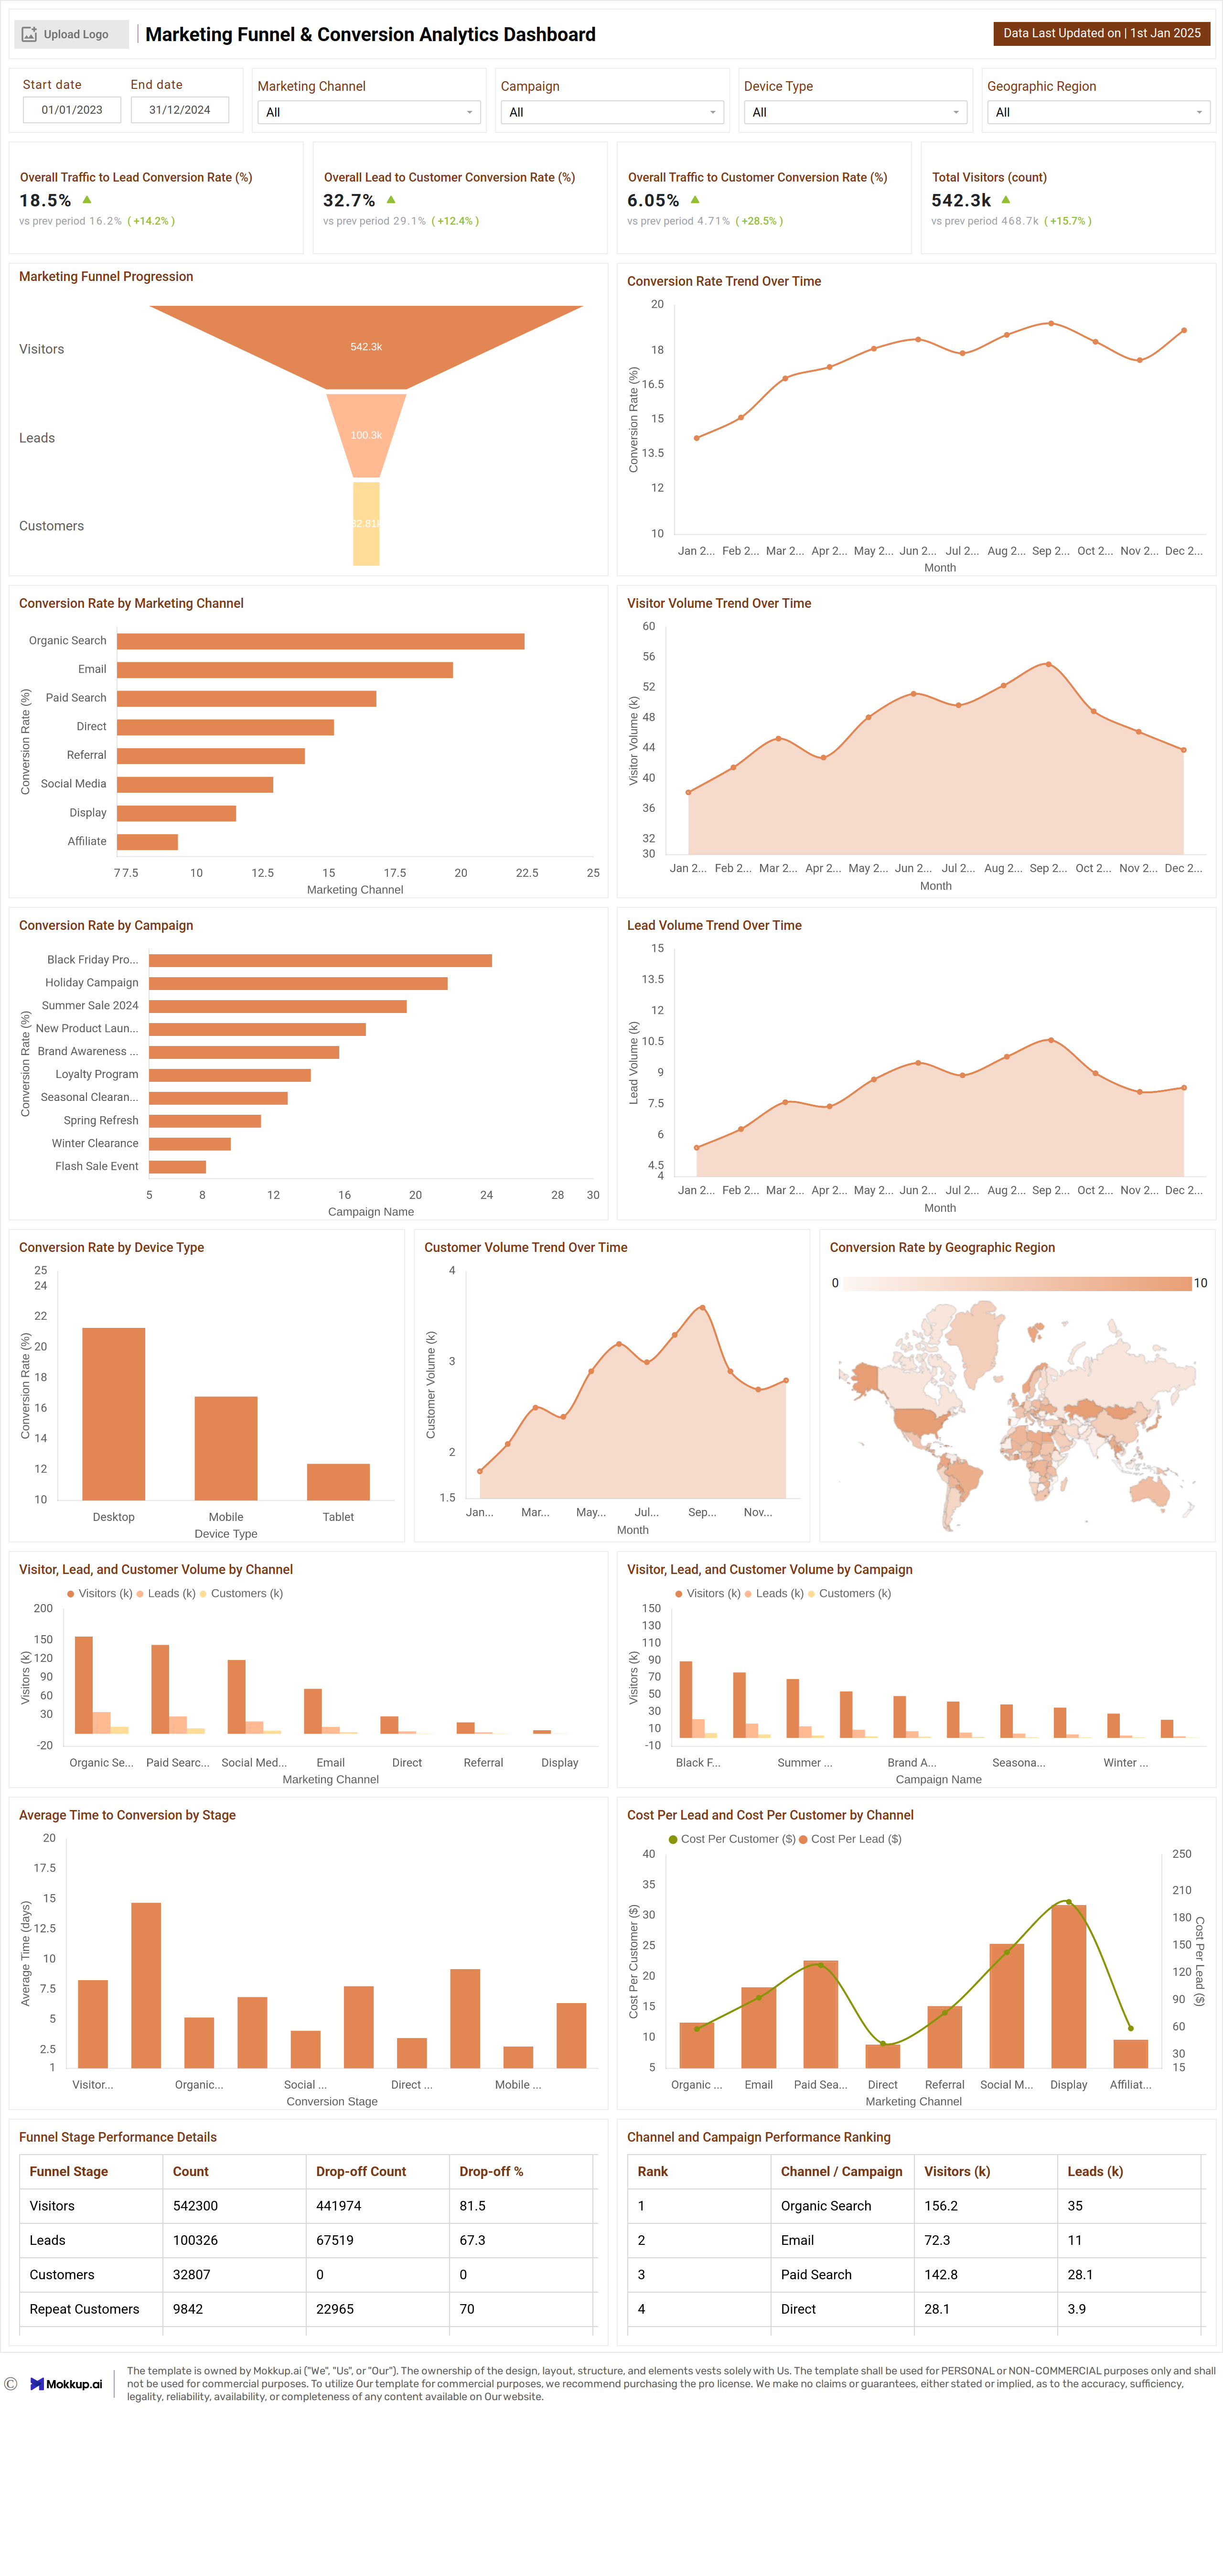

Layout of this report page (visuals, bound fields, positions):
{"tool":"powerbi","page":{"name":"Marketing Funnel & Conversion Analytics Dashboard","canvas":[1280,2462],"ordinal":0},"visuals":[{"type":"group","id":"g1","title":"Group 1","box":[7,7,1266,55],"z":0},{"type":"shape","box":[7,7,1266,55],"z":0,"group":"g1"},{"type":"shape","box":[953.5,19,316.5,30],"z":0,"group":"g21"},{"type":"shape","box":[7,69,247.6,70],"z":0,"group":"g33"},{"type":"shape","box":[261.6,69,247.6,70],"z":0,"group":"g32"},{"type":"shape","box":[516.2,69,247.6,70],"z":0,"group":"g31"},{"type":"shape","box":[770.8,69,247.6,70],"z":0,"group":"g30"},{"type":"shape","box":[1025.4,69,247.6,70],"z":0,"group":"g22"},{"type":"shape","title":"null","box":[9,71,57.5,22],"z":0,"group":"g23"},{"type":"shape","box":[7,146,311.2,120],"z":0,"group":"g20"},{"type":"shape","box":[325.2,146,311.2,120],"z":0,"group":"g19"},{"type":"shape","box":[643.5,146,311.2,120],"z":0,"group":"g18"},{"type":"shape","box":[961.8,146,311.2,120],"z":0,"group":"g17"},{"type":"shape","box":[7,273,629.5,330],"z":0,"group":"g11"},{"type":"shape","box":[643.5,273,629.5,330],"z":0,"group":"g12"},{"type":"shape","box":[7,610,629.5,330],"z":0,"group":"g13"},{"type":"shape","box":[643.5,610,629.5,330],"z":0,"group":"g14"},{"type":"shape","box":[7,947,629.5,330],"z":0,"group":"g15"},{"type":"shape","box":[643.5,947,629.5,330],"z":0,"group":"g16"},{"type":"shape","box":[7,1284,417.3,330],"z":0,"group":"g10"},{"type":"shape","box":[855.6,1284,417.4,330],"z":0,"group":"g8"},{"type":"shape","box":[431.4,1284.3,845.7,330],"z":0,"group":"g9"},{"type":"shape","box":[7,1621,629.5,250],"z":0,"group":"g7"},{"type":"shape","box":[643.5,1621,629.5,250],"z":0,"group":"g6"},{"type":"shape","box":[7,1878,629.5,330],"z":0,"group":"g5"},{"type":"shape","box":[643.5,1878,629.5,330],"z":0,"group":"g4"},{"type":"shape","box":[7,2215,629.5,240],"z":0,"group":"g3"},{"type":"shape","box":[643.5,2215,629.5,240],"z":0,"group":"g2"},{"type":"shape","box":[8,2216,627.5,30],"z":0,"group":"g28"},{"type":"shape","box":[644.5,2216,627.5,30],"z":0,"group":"g29"},{"type":"shape","title":"null","box":[263.6,72,245.6,20],"z":10,"group":"g24"},{"type":"shape","title":"null","box":[518.2,72,245.6,20],"z":10,"group":"g25"},{"type":"shape","title":"null","box":[772.8,72,245.6,20],"z":10,"group":"g26"},{"type":"shape","title":"null","box":[1027.4,72,245.6,20],"z":10,"group":"g27"},{"type":"group","id":"g2","title":"Group 1","box":[643.5,2215,629.5,240],"z":50},{"type":"group","id":"g3","title":"Group 1","box":[7,2215,629.5,240],"z":100},{"type":"group","id":"g4","title":"Group 1","box":[643.5,1878,629.5,330],"z":150},{"type":"group","id":"g5","title":"Group 1","box":[7,1878,629.5,330],"z":200},{"type":"group","id":"g6","title":"Group 1","box":[643.5,1621,629.5,250],"z":250},{"type":"group","id":"g7","title":"Group 1","box":[7,1621,629.5,250],"z":300},{"type":"group","id":"g8","title":"Group 1","box":[855.6,1284,417.4,330],"z":350},{"type":"group","id":"g9","title":"Group 1","box":[431.4,1284.3,845.7,330],"z":400},{"type":"group","id":"g10","title":"Group 1","box":[7,1284,417.3,330],"z":450},{"type":"group","id":"g11","title":"Group 1","box":[7,273,629.5,330],"z":500},{"type":"group","id":"g12","title":"Group 1","box":[643.5,273,629.5,330],"z":550},{"type":"group","id":"g13","title":"Group 1","box":[7,610,629.5,330],"z":600},{"type":"group","id":"g14","title":"Group 1","box":[643.5,610,629.5,330],"z":650},{"type":"group","id":"g15","title":"Group 1","box":[7,947,629.5,330],"z":700},{"type":"group","id":"g16","title":"Group 1","box":[643.5,947,629.5,330],"z":750},{"type":"group","id":"g17","title":"Group 1","box":[961.8,146,311.2,120],"z":800},{"type":"group","id":"g18","title":"Group 1","box":[643.5,146,311.2,120],"z":850},{"type":"group","id":"g19","title":"Group 1","box":[325.2,146,311.2,120],"z":900},{"type":"group","id":"g20","title":"Group 1","box":[7,146,311.2,120],"z":950},{"type":"group","id":"g21","title":"Group 1","box":[7,19,1266,30],"z":1000,"group":"g1"},{"type":"shape","box":[7,19,949.5,30],"z":1000,"group":"g21"},{"type":"group","id":"g22","title":"Group 1","box":[1025.4,69,247.6,70],"z":1000},{"type":"group","id":"g23","title":"Group 1","box":[8,70,245.6,70],"z":1000,"group":"g33"},{"type":"shape","title":"null","box":[66.5,71,188.1,22],"z":1000,"group":"g23"},{"type":"group","id":"g24","title":"Group 1","box":[262.6,71,245.6,65],"z":1000,"group":"g32"},{"type":"group","id":"g25","title":"Group 1","box":[517.2,71,245.6,65],"z":1000,"group":"g31"},{"type":"group","id":"g26","title":"Group 1","box":[771.8,71,245.6,65],"z":1000,"group":"g30"},{"type":"group","id":"g27","title":"Group 1","box":[1026.4,71,245.6,65],"z":1000,"group":"g22"},{"type":"kpi","title":"Overall Traffic to Lead Conversion Rate (%)","fields":{"TrendLine":["dim date.Month"],"Indicator":["dim measure.overall traffic to lead conversion rate (%) current"],"Goal":["dim measure.overall traffic to lead conversion rate (%) vs prev period"]},"box":[7,146,309.2,117],"z":1000,"group":"g20"},{"type":"kpi","title":"Overall Lead to Customer Conversion Rate (%)","fields":{"TrendLine":["dim date.Month"],"Indicator":["dim measure.overall lead to customer conversion rate (%) current"],"Goal":["dim measure.overall lead to customer conversion rate (%) vs prev period"]},"box":[325.2,146,309.2,117],"z":1000,"group":"g19"},{"type":"kpi","title":"Overall Traffic to Customer Conversion Rate (%)","fields":{"TrendLine":["dim date.Month"],"Indicator":["dim measure.overall traffic to customer conversion rate (%) current"],"Goal":["dim measure.overall traffic to customer conversion rate (%) vs prev period"]},"box":[643.5,146,309.2,117],"z":1000,"group":"g18"},{"type":"kpi","title":"Total Visitors (count)","fields":{"TrendLine":["dim date.Month"],"Indicator":["dim measure.total visitors (count) current"],"Goal":["dim measure.total visitors (count) vs prev period"]},"box":[961.8,146,309.2,117],"z":1000,"group":"g17"},{"type":"shape","box":[8,274,627.5,30],"z":1000,"group":"g11"},{"type":"shape","box":[644.5,274,627.5,30],"z":1000,"group":"g12"},{"type":"shape","box":[8,611,627.5,30],"z":1000,"group":"g13"},{"type":"shape","box":[644.5,611,627.5,30],"z":1000,"group":"g14"},{"type":"shape","box":[8,948,627.5,30],"z":1000,"group":"g15"},{"type":"shape","box":[644.5,948,627.5,30],"z":1000,"group":"g16"},{"type":"shape","box":[8,1285,415.3,30],"z":1000,"group":"g10"},{"type":"shape","box":[856.6,1285,415.4,30],"z":1000,"group":"g8"},{"type":"shape","box":[433.4,1285.3,841.7,30],"z":1000,"group":"g9"},{"type":"shape","box":[8,1622,627.5,30],"z":1000,"group":"g7"},{"type":"shape","box":[644.5,1622,627.5,30],"z":1000,"group":"g6"},{"type":"shape","box":[8,1879,627.5,30],"z":1000,"group":"g5"},{"type":"shape","box":[644.5,1879,627.5,30],"z":1000,"group":"g4"},{"type":"group","id":"g28","title":"Group 1","box":[7,2215,627.5,300],"z":1000,"group":"g3"},{"type":"group","id":"g29","title":"Group 1","box":[643.5,2215,627.5,300],"z":1000,"group":"g2"},{"type":"tableEx","fields":{"Values":["Fact.simpletable_fact_718","Fact.simpletable_fact_719","Fact.simpletable_fact_720","Fact.simpletable_fact_721","Fact.simpletable_fact_722"]},"box":[8,2246,627.5,270],"z":1000,"group":"g28"},{"type":"tableEx","fields":{"Values":["Fact.simpletable_fact_712","Fact.simpletable_fact_713","Fact.simpletable_fact_714","Fact.simpletable_fact_715","Fact.simpletable_fact_716","Fact.simpletable_fact_717"]},"box":[644.5,2246,627.5,270],"z":1000,"group":"g29"},{"type":"slicer","fields":{"Values":["Geographic region3.filter"]},"box":[1027.4,92,245.6,29],"z":1002,"group":"g27"},{"type":"group","id":"g30","title":"Group 1","box":[770.8,69,247.6,70],"z":1050},{"type":"slicer","fields":{"Values":["Device type.column"]},"box":[772.8,92,245.6,29],"z":1052,"group":"g26"},{"type":"group","id":"g31","title":"Group 1","box":[516.2,69,247.6,70],"z":1100},{"type":"slicer","fields":{"Values":["Campaign name.column"]},"box":[518.2,92,245.6,29],"z":1102,"group":"g25"},{"type":"group","id":"g32","title":"Group 1","box":[261.6,69,247.6,70],"z":1150},{"type":"slicer","fields":{"Values":["Marketing channel2.combochart"]},"box":[263.6,92,245.6,29],"z":1152,"group":"g24"},{"type":"group","id":"g33","title":"Group 1","box":[7,69,247.6,70],"z":1200},{"type":"slicer","fields":{"Values":["dim date.Date"]},"box":[9,93,245.6,45],"z":2000,"group":"g23"},{"type":"funnel","fields":{"Category":["Marketing funnel progression.funnel"],"Y":["Sum(Fact.funnel_fact_18)"]},"box":[8,304,627.5,297],"z":2000,"group":"g11"},{"type":"lineChart","title":"Title goes here","fields":{"Category":["Month105.areachart"],"Y":["Sum(Fact.traffic_to_lead_conversion_rate____)"]},"box":[644.5,304,627.5,297],"z":2000,"group":"g12"},{"type":"clusteredBarChart","title":"Title goes here","fields":{"Category":["Marketing channel2.combochart"],"Y":["Sum(Fact.conversion_rate_____261)"]},"box":[8,641,627.5,297],"z":2000,"group":"g13"},{"type":"areaChart","title":"Title goes here","fields":{"Category":["Month105.areachart"],"Y":["Sum(Fact.visitor_volume__k_)"]},"box":[644.5,641,627.5,297],"z":2000,"group":"g14"},{"type":"clusteredBarChart","title":"Title goes here","fields":{"Category":["Campaign name.column"],"Y":["Sum(Fact.conversion_rate_____262)"]},"box":[8,978,627.5,297],"z":2000,"group":"g15"},{"type":"areaChart","title":"Title goes here","fields":{"Category":["Month105.areachart"],"Y":["Sum(Fact.lead_volume__k__32)"]},"box":[644.5,978,627.5,297],"z":2000,"group":"g16"},{"type":"clusteredColumnChart","title":"Title goes here","fields":{"Category":["Device type.column"],"Y":["Sum(Fact.conversion_rate____)"]},"box":[8,1315,415.3,297],"z":2000,"group":"g10"},{"type":"areaChart","title":"Title goes here","fields":{"Category":["Month105.areachart"],"Y":["Sum(Fact.customer_volume__k_)"]},"box":[433.4,1315.3,841.7,297],"z":2000,"group":"g9"},{"type":"clusteredColumnChart","title":"Title goes here","fields":{"Category":["Marketing channel3.column"],"Y":["Sum(Fact.visitors__k__259)","Sum(Fact.leads__k__259)","Sum(Fact.customers__k__259)"]},"box":[8,1652,627.5,217],"z":2000,"group":"g7"},{"type":"clusteredColumnChart","title":"Title goes here","fields":{"Category":["Campaign name.column"],"Y":["Sum(Fact.visitors__k_)","Sum(Fact.leads__k_)","Sum(Fact.customers__k_)"]},"box":[644.5,1652,627.5,217],"z":2000,"group":"g6"},{"type":"clusteredColumnChart","title":"Title goes here","fields":{"Category":["Conversion stage.column"],"Y":["Sum(Fact.average_time__days_)"]},"box":[8,1909,627.5,297],"z":2000,"group":"g5"},{"type":"lineClusteredColumnComboChart","title":"Title goes here","fields":{"Category":["Marketing channel2.combochart"],"Y":["Sum(Fact.combochart_67)"],"Y2":["Sum(Fact.combochart_66)"]},"box":[644.5,1909,627.5,297],"z":2000,"group":"g4"}]}

Visuals, with their boxes on the page's 1280x2462 design canvas (x1, y1, x2, y2). These are canvas units, not pixel positions in the 1223x2576 screenshot, which may show the page scaled, cropped or inside an application window:
"Group 1" group: x1=7 y1=7 x2=1273 y2=62
shape: x1=7 y1=7 x2=1273 y2=62
shape: x1=954 y1=19 x2=1270 y2=49
shape: x1=7 y1=69 x2=255 y2=139
shape: x1=262 y1=69 x2=509 y2=139
shape: x1=516 y1=69 x2=764 y2=139
shape: x1=771 y1=69 x2=1018 y2=139
shape: x1=1025 y1=69 x2=1273 y2=139
"null" shape: x1=9 y1=71 x2=66 y2=93
shape: x1=7 y1=146 x2=318 y2=266
shape: x1=325 y1=146 x2=636 y2=266
shape: x1=644 y1=146 x2=955 y2=266
shape: x1=962 y1=146 x2=1273 y2=266
shape: x1=7 y1=273 x2=636 y2=603
shape: x1=644 y1=273 x2=1273 y2=603
shape: x1=7 y1=610 x2=636 y2=940
shape: x1=644 y1=610 x2=1273 y2=940
shape: x1=7 y1=947 x2=636 y2=1277
shape: x1=644 y1=947 x2=1273 y2=1277
shape: x1=7 y1=1284 x2=424 y2=1614
shape: x1=856 y1=1284 x2=1273 y2=1614
shape: x1=431 y1=1284 x2=1277 y2=1614
shape: x1=7 y1=1621 x2=636 y2=1871
shape: x1=644 y1=1621 x2=1273 y2=1871
shape: x1=7 y1=1878 x2=636 y2=2208
shape: x1=644 y1=1878 x2=1273 y2=2208
shape: x1=7 y1=2215 x2=636 y2=2455
shape: x1=644 y1=2215 x2=1273 y2=2455
shape: x1=8 y1=2216 x2=636 y2=2246
shape: x1=644 y1=2216 x2=1272 y2=2246
"null" shape: x1=264 y1=72 x2=509 y2=92
"null" shape: x1=518 y1=72 x2=764 y2=92
"null" shape: x1=773 y1=72 x2=1018 y2=92
"null" shape: x1=1027 y1=72 x2=1273 y2=92
"Group 1" group: x1=644 y1=2215 x2=1273 y2=2455
"Group 1" group: x1=7 y1=2215 x2=636 y2=2455
"Group 1" group: x1=644 y1=1878 x2=1273 y2=2208
"Group 1" group: x1=7 y1=1878 x2=636 y2=2208
"Group 1" group: x1=644 y1=1621 x2=1273 y2=1871
"Group 1" group: x1=7 y1=1621 x2=636 y2=1871
"Group 1" group: x1=856 y1=1284 x2=1273 y2=1614
"Group 1" group: x1=431 y1=1284 x2=1277 y2=1614
"Group 1" group: x1=7 y1=1284 x2=424 y2=1614
"Group 1" group: x1=7 y1=273 x2=636 y2=603
"Group 1" group: x1=644 y1=273 x2=1273 y2=603
"Group 1" group: x1=7 y1=610 x2=636 y2=940
"Group 1" group: x1=644 y1=610 x2=1273 y2=940
"Group 1" group: x1=7 y1=947 x2=636 y2=1277
"Group 1" group: x1=644 y1=947 x2=1273 y2=1277
"Group 1" group: x1=962 y1=146 x2=1273 y2=266
"Group 1" group: x1=644 y1=146 x2=955 y2=266
"Group 1" group: x1=325 y1=146 x2=636 y2=266
"Group 1" group: x1=7 y1=146 x2=318 y2=266
"Group 1" group: x1=7 y1=19 x2=1273 y2=49
shape: x1=7 y1=19 x2=956 y2=49
"Group 1" group: x1=1025 y1=69 x2=1273 y2=139
"Group 1" group: x1=8 y1=70 x2=254 y2=140
"null" shape: x1=66 y1=71 x2=255 y2=93
"Group 1" group: x1=263 y1=71 x2=508 y2=136
"Group 1" group: x1=517 y1=71 x2=763 y2=136
"Group 1" group: x1=772 y1=71 x2=1017 y2=136
"Group 1" group: x1=1026 y1=71 x2=1272 y2=136
"Overall Traffic to Lead Conversion Rate (%)" kpi: x1=7 y1=146 x2=316 y2=263
"Overall Lead to Customer Conversion Rate (%)" kpi: x1=325 y1=146 x2=634 y2=263
"Overall Traffic to Customer Conversion Rate (%)" kpi: x1=644 y1=146 x2=953 y2=263
"Total Visitors (count)" kpi: x1=962 y1=146 x2=1271 y2=263
shape: x1=8 y1=274 x2=636 y2=304
shape: x1=644 y1=274 x2=1272 y2=304
shape: x1=8 y1=611 x2=636 y2=641
shape: x1=644 y1=611 x2=1272 y2=641
shape: x1=8 y1=948 x2=636 y2=978
shape: x1=644 y1=948 x2=1272 y2=978
shape: x1=8 y1=1285 x2=423 y2=1315
shape: x1=857 y1=1285 x2=1272 y2=1315
shape: x1=433 y1=1285 x2=1275 y2=1315
shape: x1=8 y1=1622 x2=636 y2=1652
shape: x1=644 y1=1622 x2=1272 y2=1652
shape: x1=8 y1=1879 x2=636 y2=1909
shape: x1=644 y1=1879 x2=1272 y2=1909
"Group 1" group: x1=7 y1=2215 x2=634 y2=2515
"Group 1" group: x1=644 y1=2215 x2=1271 y2=2515
tableEx - Fact.simpletable_fact_718 x Fact.simpletable_fact_719: x1=8 y1=2246 x2=636 y2=2516
tableEx - Fact.simpletable_fact_712 x Fact.simpletable_fact_713: x1=644 y1=2246 x2=1272 y2=2516
slicer - Geographic region3.filter: x1=1027 y1=92 x2=1273 y2=121
"Group 1" group: x1=771 y1=69 x2=1018 y2=139
slicer - Device type.column: x1=773 y1=92 x2=1018 y2=121
"Group 1" group: x1=516 y1=69 x2=764 y2=139
slicer - Campaign name.column: x1=518 y1=92 x2=764 y2=121
"Group 1" group: x1=262 y1=69 x2=509 y2=139
slicer - Marketing channel2.combochart: x1=264 y1=92 x2=509 y2=121
"Group 1" group: x1=7 y1=69 x2=255 y2=139
slicer - dim date.Date: x1=9 y1=93 x2=255 y2=138
funnel - Marketing funnel progression.funnel x Sum(Fact.funnel_fact_18): x1=8 y1=304 x2=636 y2=601
"Title goes here" lineChart: x1=644 y1=304 x2=1272 y2=601
"Title goes here" clusteredBarChart: x1=8 y1=641 x2=636 y2=938
"Title goes here" areaChart: x1=644 y1=641 x2=1272 y2=938
"Title goes here" clusteredBarChart: x1=8 y1=978 x2=636 y2=1275
"Title goes here" areaChart: x1=644 y1=978 x2=1272 y2=1275
"Title goes here" clusteredColumnChart: x1=8 y1=1315 x2=423 y2=1612
"Title goes here" areaChart: x1=433 y1=1315 x2=1275 y2=1612
"Title goes here" clusteredColumnChart: x1=8 y1=1652 x2=636 y2=1869
"Title goes here" clusteredColumnChart: x1=644 y1=1652 x2=1272 y2=1869
"Title goes here" clusteredColumnChart: x1=8 y1=1909 x2=636 y2=2206
"Title goes here" lineClusteredColumnComboChart: x1=644 y1=1909 x2=1272 y2=2206
